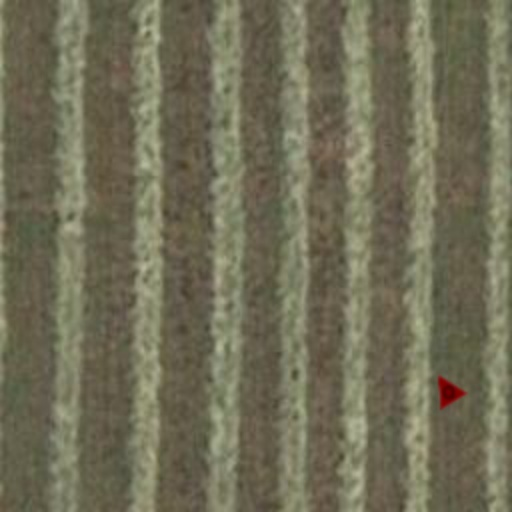triangle: (424, 366, 468, 410)
